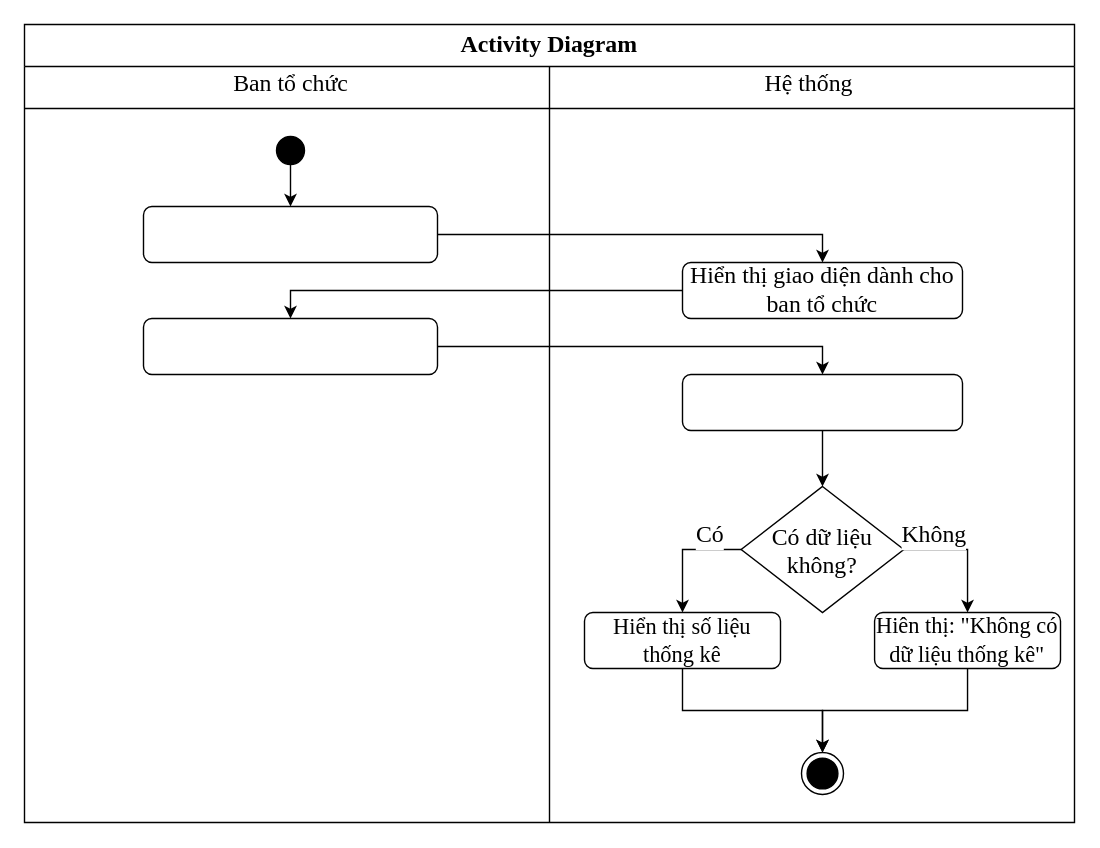
Some shapes in this 1100 by 848 pixel diagram are drawn without their labels. The centre of each missing label's shape, as x and y in pixels:
Hệ thống lấy dữ liệu trong Database: (x=821, y=401)
Truy cập mục "Statistical data " tại thanh Sidebar: (x=290, y=345)
Đăng nhập thành công: (x=290, y=233)
